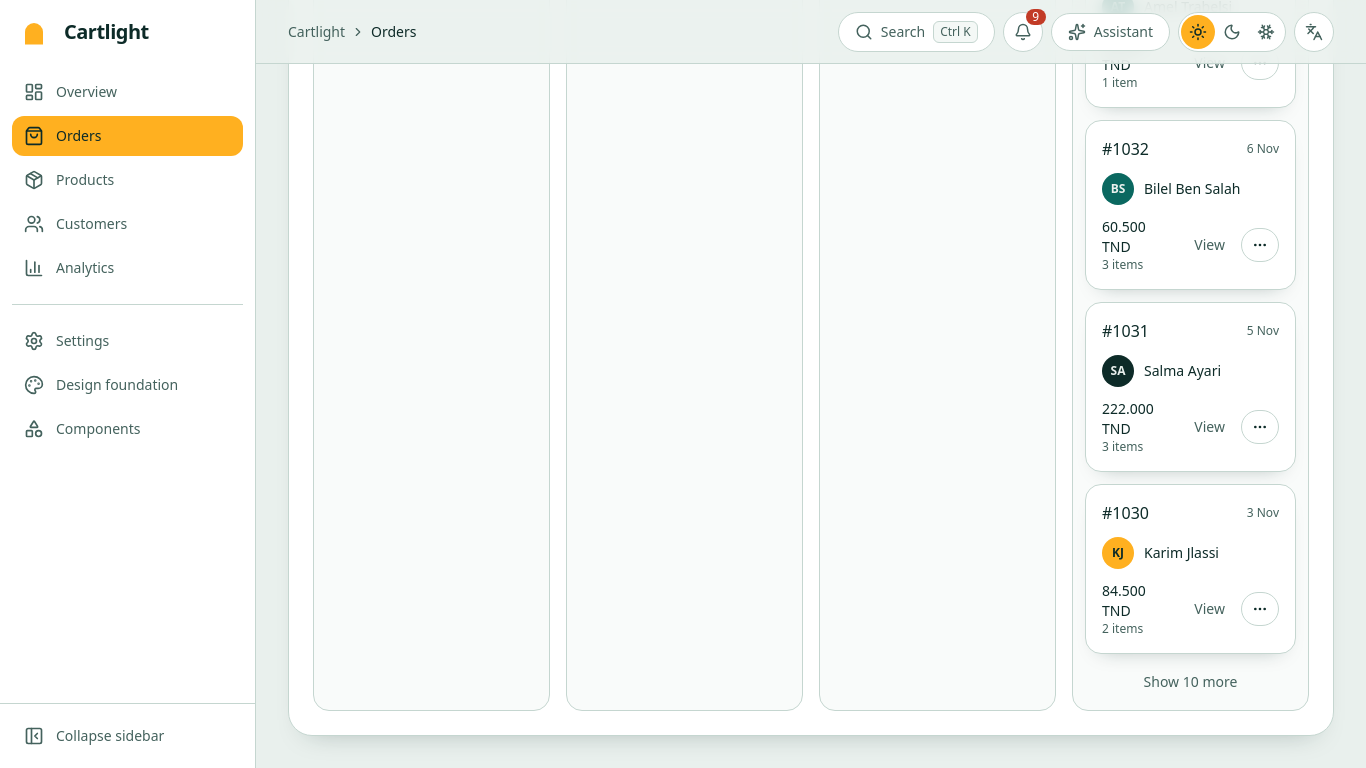
Test case: orders board › shows the first six cards of a long column and the rest on request
(page scrolled)
Click the button "Show 10 more" at (1190, 682), box [1085, 666, 1296, 698]
(page scrolled)
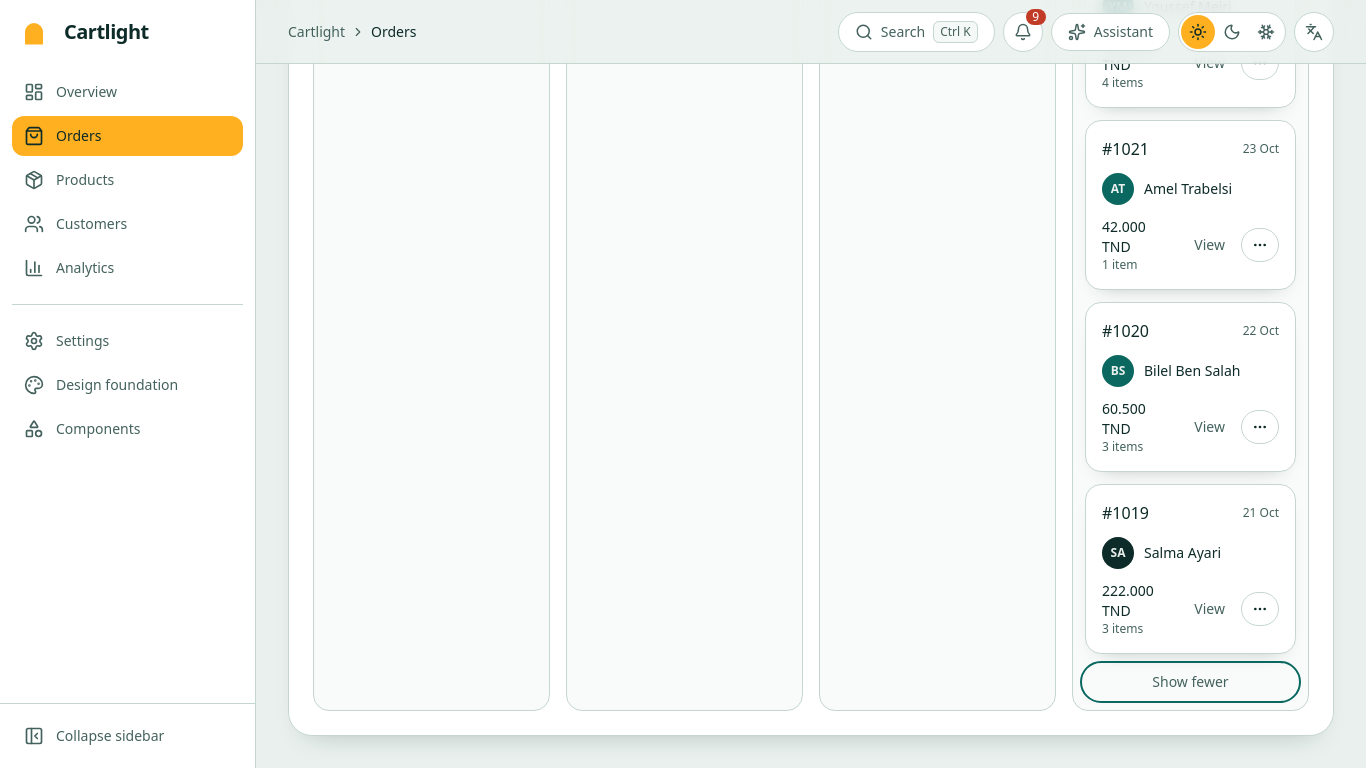
Click the button "Show fewer" at (1190, 682), box [1085, 666, 1296, 698]
(page scrolled)
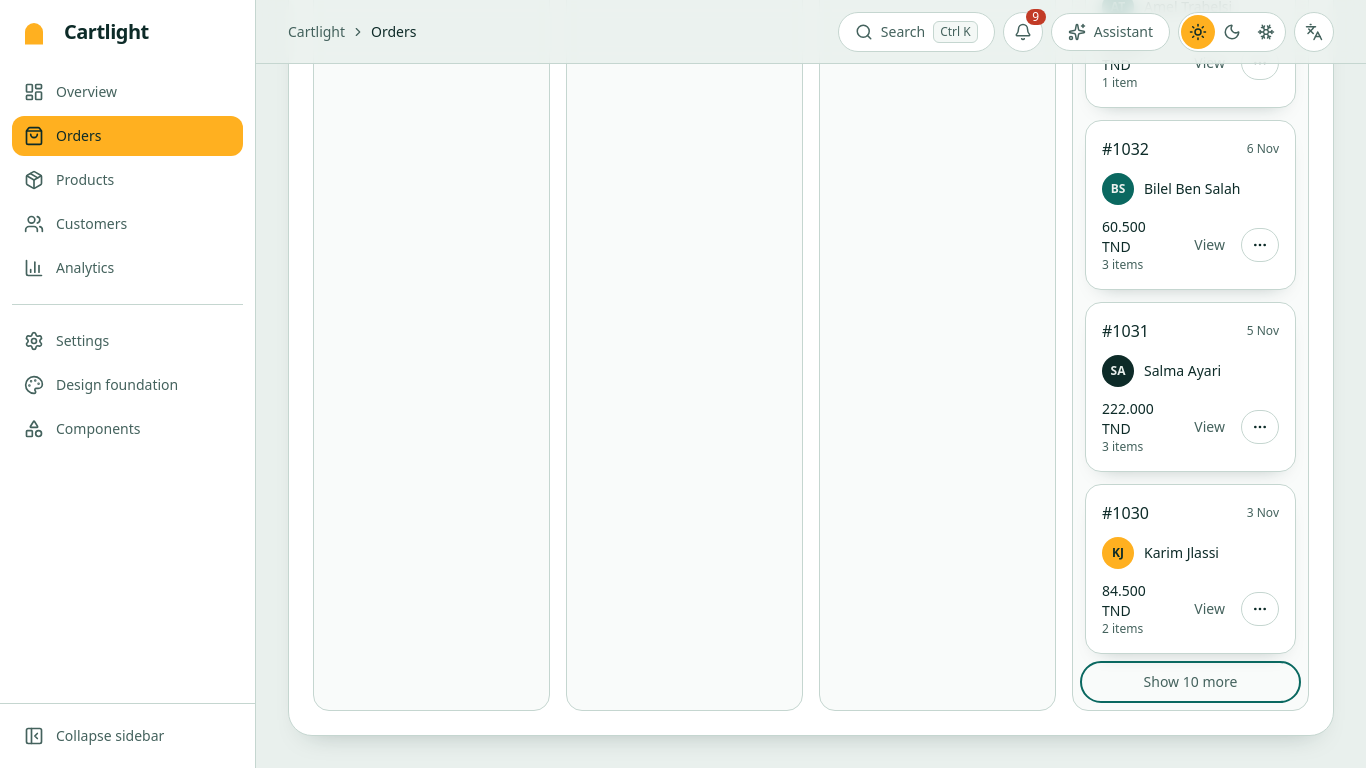
Now the number of buttons "View order" is 6
